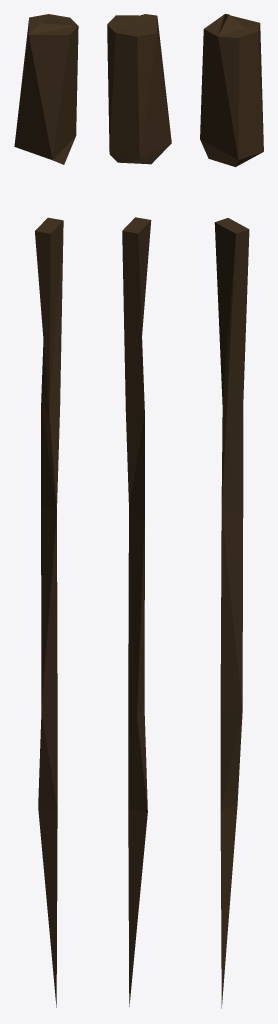
File: torch-stake.lod2.glb
3 renders of one model, left to right at view 1: azimuth 30°, elevation 25°; view 2: azimuth 210°, elevation 25°; view 3: azimuth 270°, elevation 25°, orthographic.
Visible parts, largest first — view 1: defaultMaterial; view 2: defaultMaterial; view 3: defaultMaterial.
Part boxes in pixels (x1,y1,x2,y2): defaultMaterial: (14,14,78,1007); defaultMaterial: (107,14,171,1006); defaultMaterial: (200,14,263,1008).
Bounding box in the file's own units: 0.116 × 1.9 × 0.1113.
